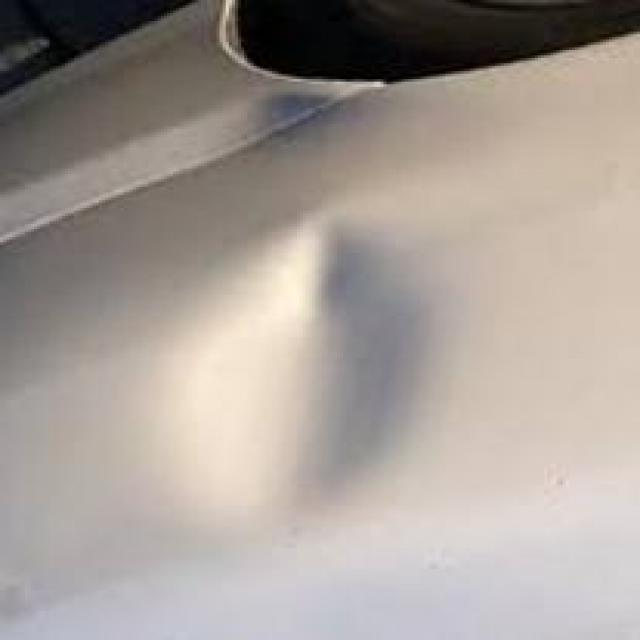dent: (145, 191, 473, 552)
